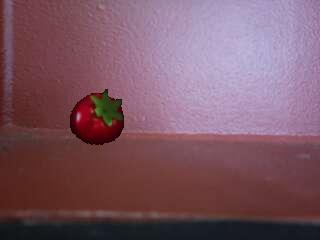Tomato: (69, 88, 124, 146)
